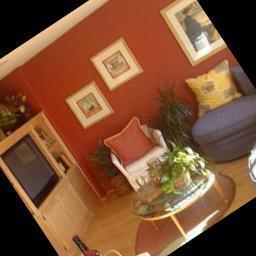Matera: (89, 144, 138, 202)
